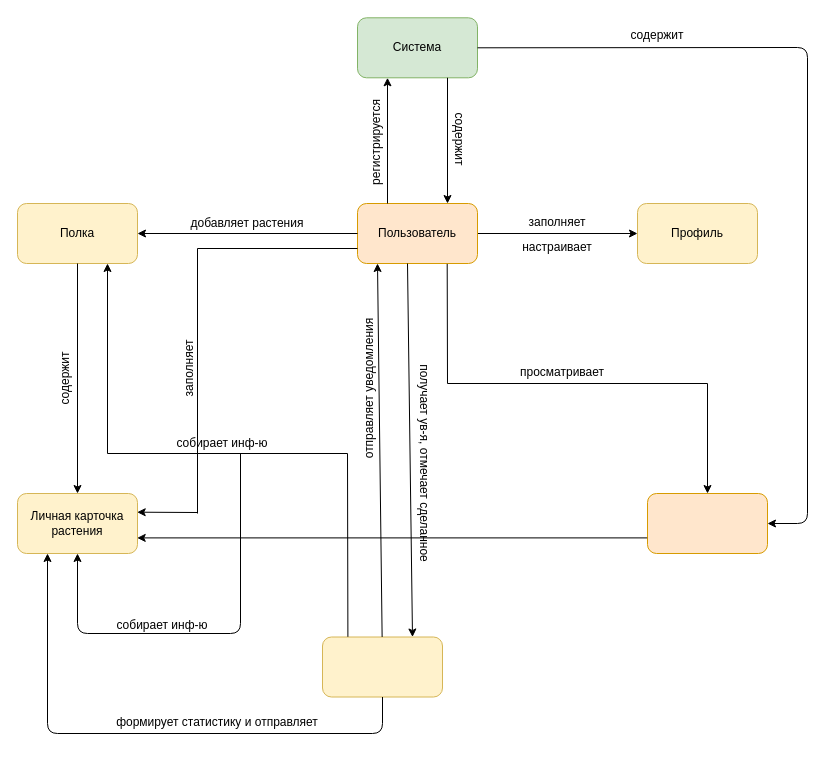
Image size: 833x759. Some labels were removed from this diagram. Here are the shapes that lost their labels. From the top down, the box of each, then its label:
(646, 492, 768, 554): Справочник
(322, 636, 442, 697): Раздел "Сегодня"
